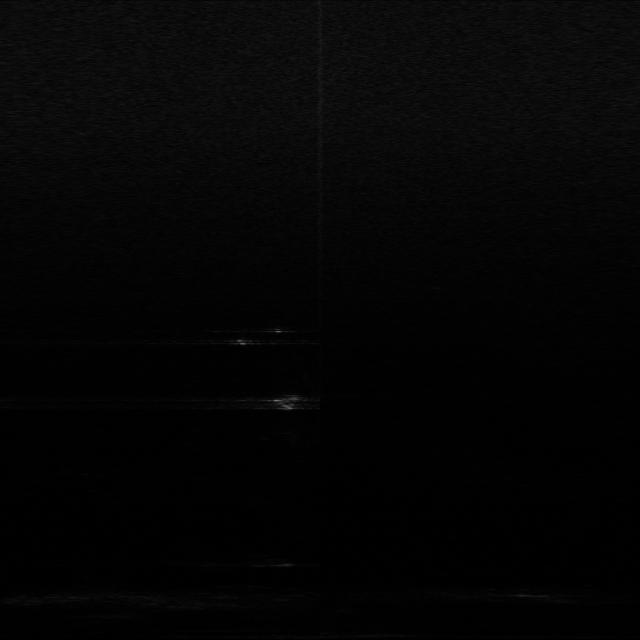rov: (264, 390, 307, 415)
